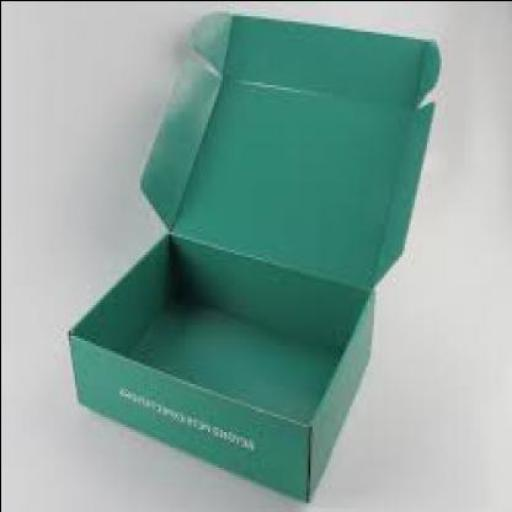cardboard: (70, 7, 440, 500)
